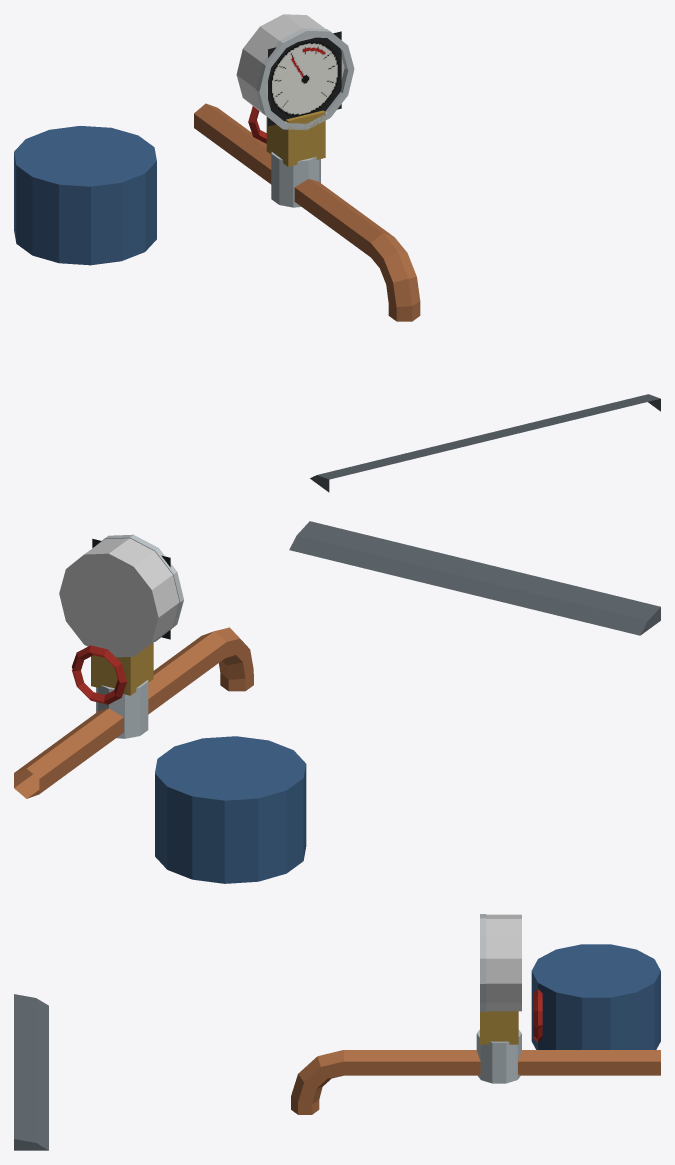
The model's file is cell_28.obj.
The picture shows the model from 3 angles, top to bottom: view 1: azimuth 30°, elevation 25°; view 2: azimuth 150°, elevation 25°; view 3: azimuth 270°, elevation 25°; orthographic projection. The views are drawn at different scales.
Size of the model in its own units: 0.53 by 0.326 by 1.
